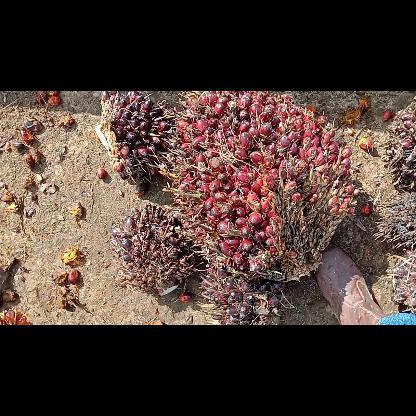TBS abnormal: (94, 91, 172, 190), (116, 202, 188, 303), (206, 260, 278, 324)
TBS masak: (172, 90, 358, 284)
